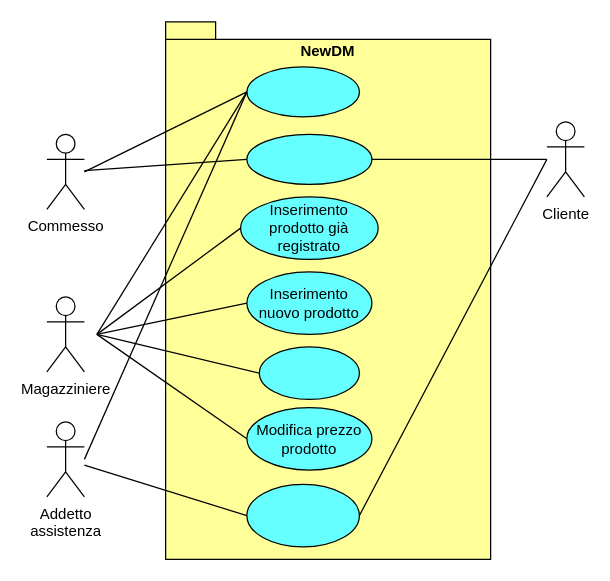
The diagram is 610 pixels wide and 581 high, and some of its shapes have lost their labels. The centre of each missing label's shape, as x and y in pixels:
"Acquisto prodotti" goes at pixel 309 158.
"Login" goes at pixel 302 91.
"Ordina" goes at pixel 308 372.
"Richiedi assistenza" goes at pixel 302 515.
